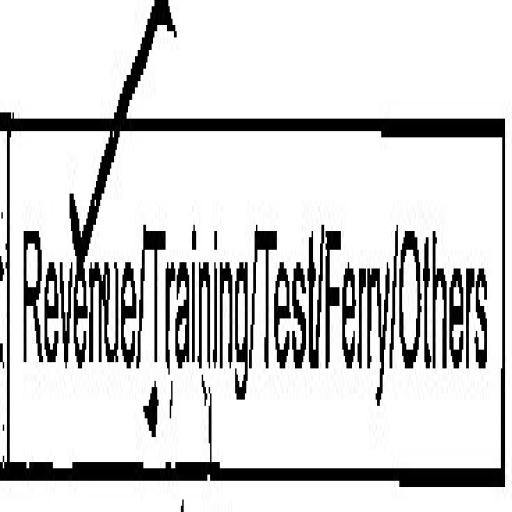check: (7, 4, 144, 512)
